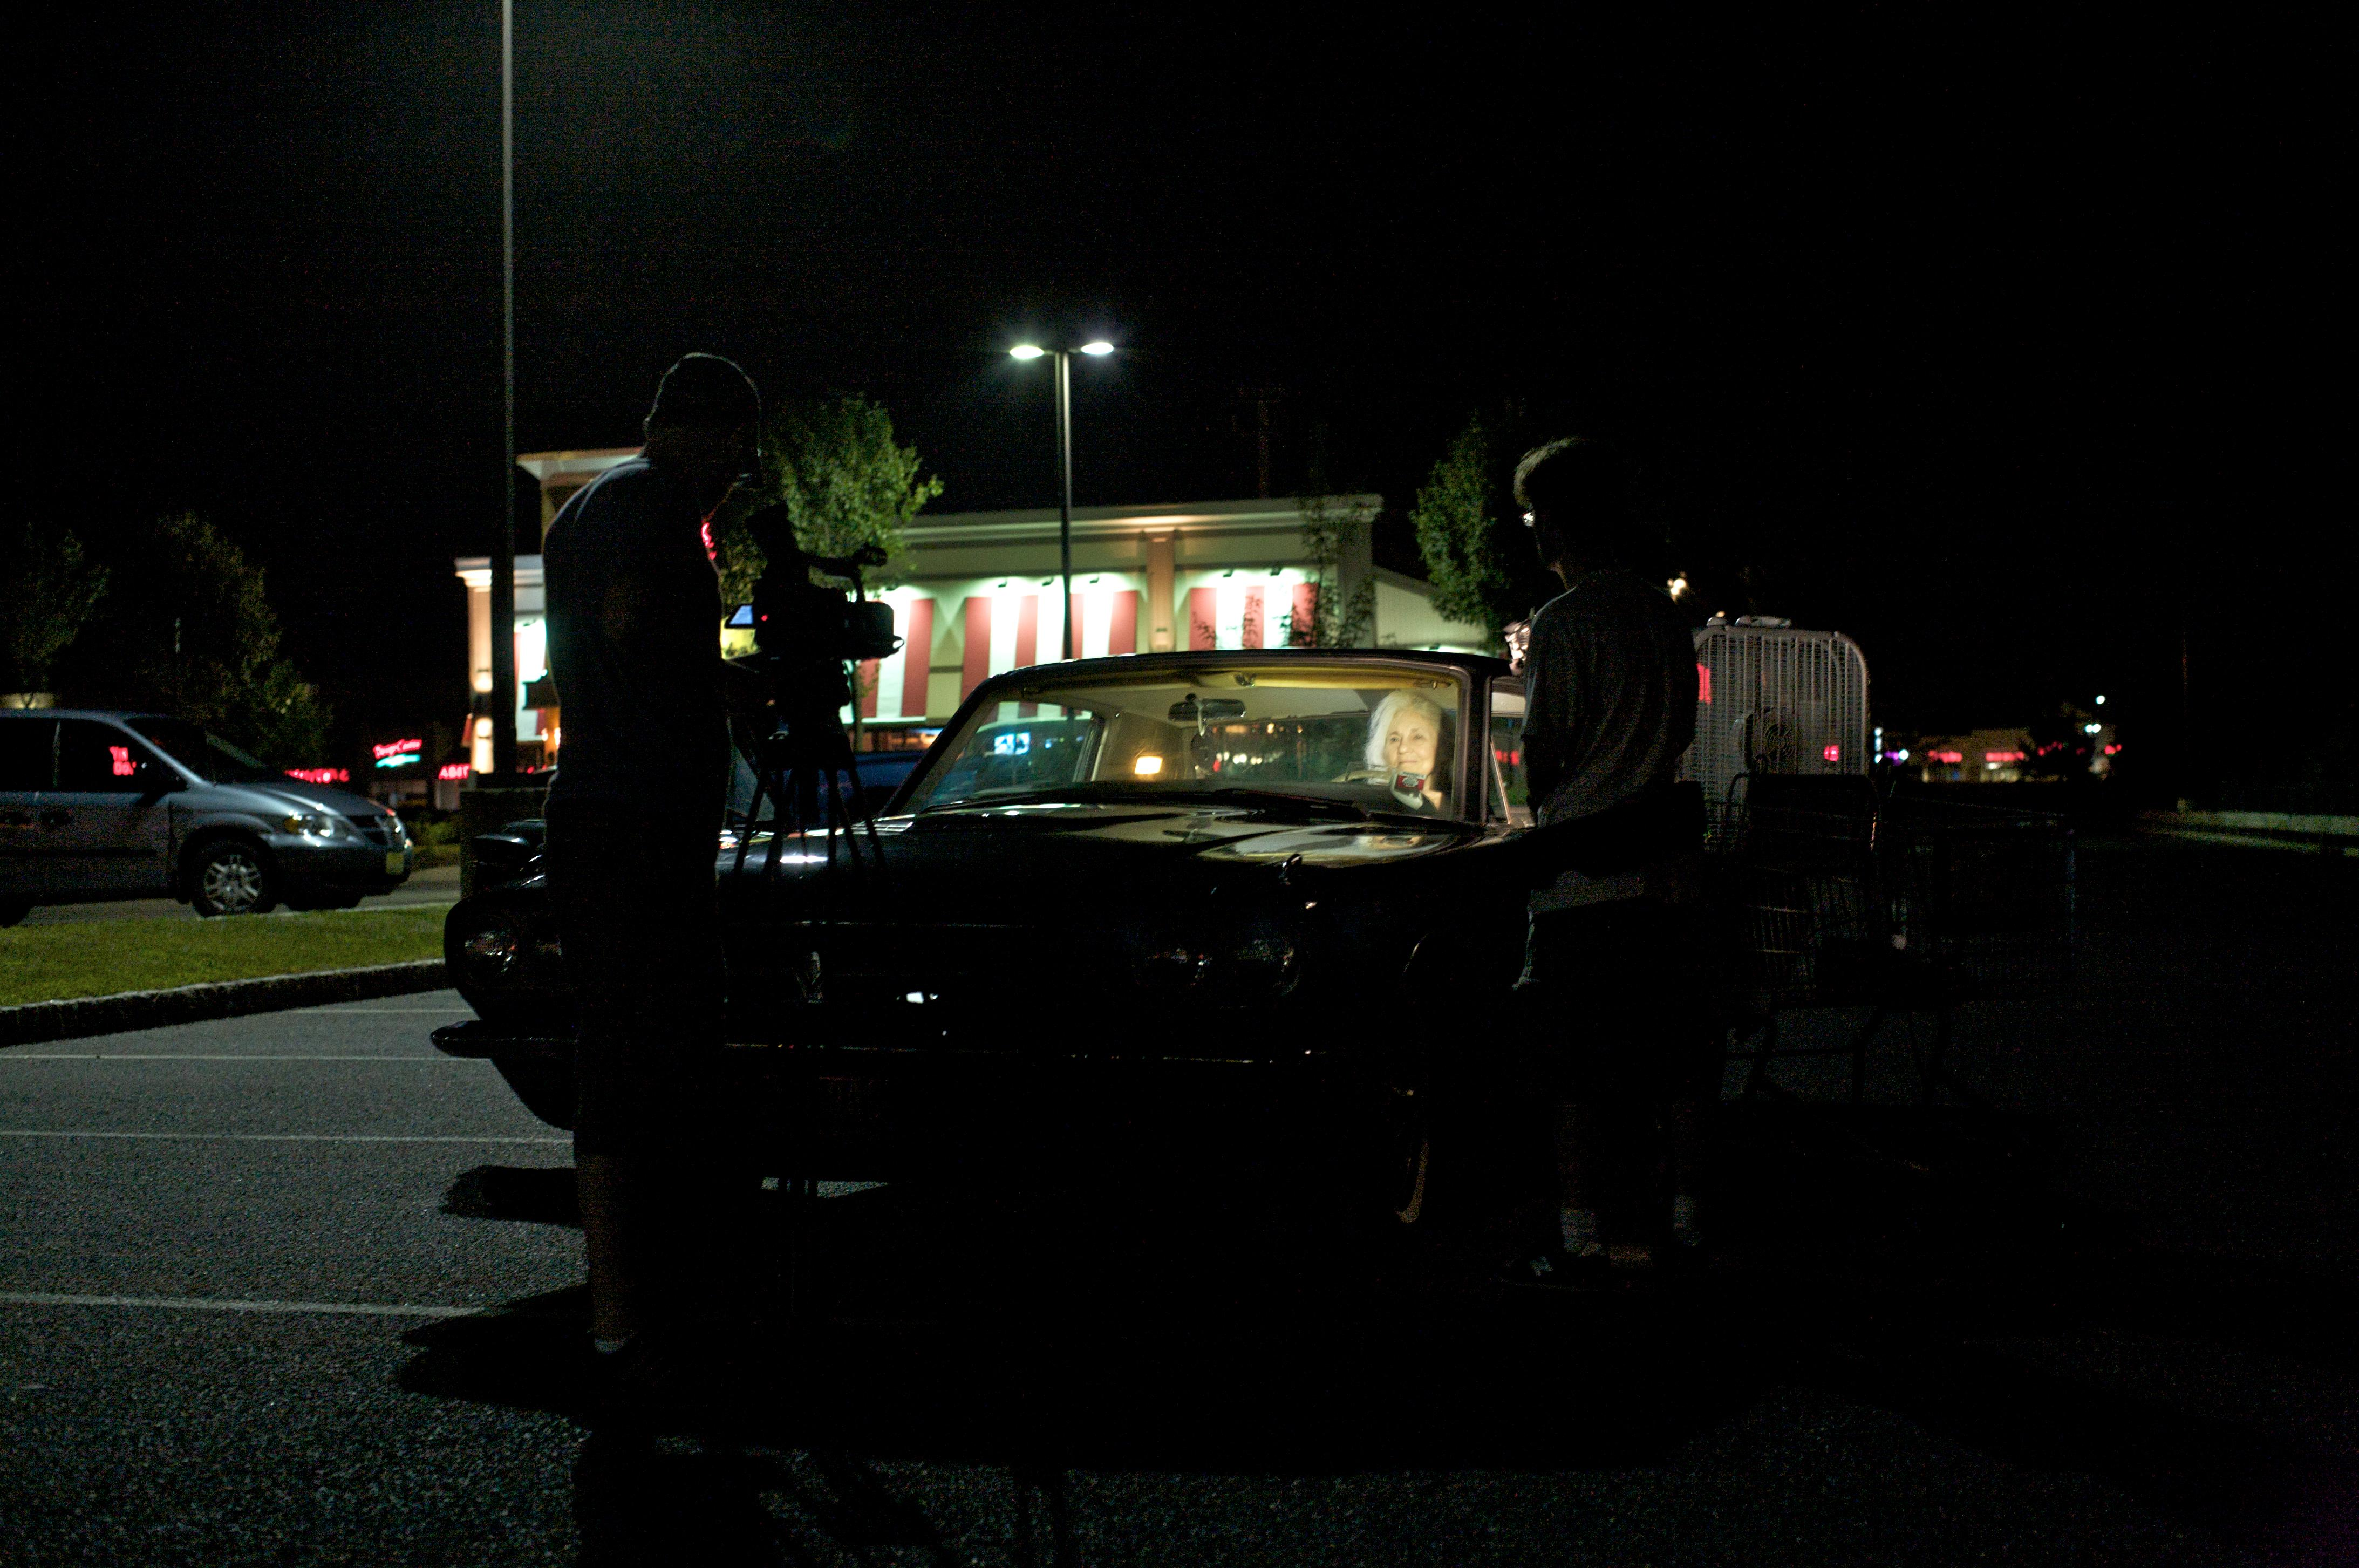car: (2, 695, 418, 931)
